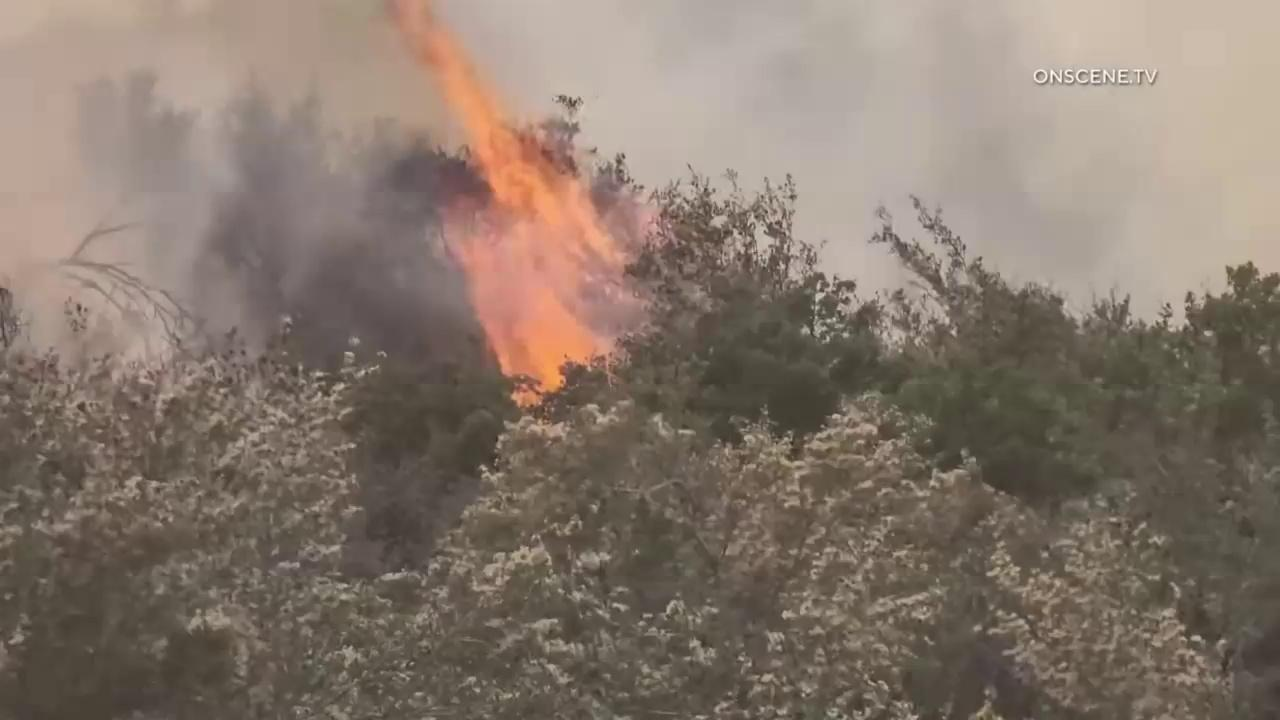fire: (375, 0, 683, 418)
smoke: (0, 0, 1280, 403)
